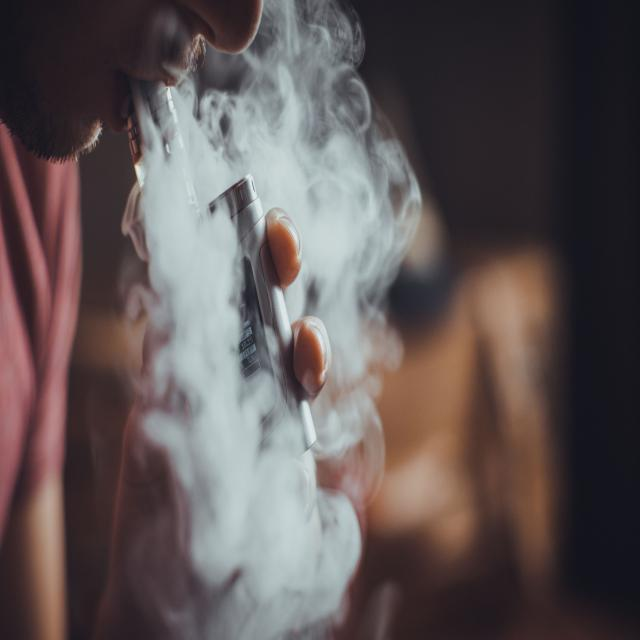Smoke: (121, 0, 423, 640)
